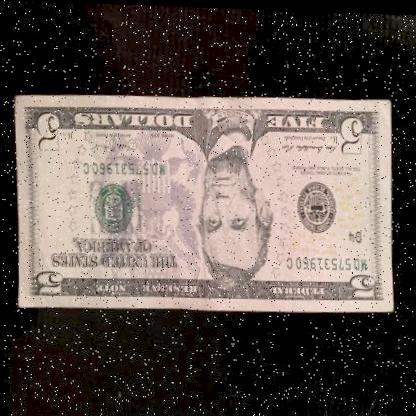five-front: (13, 87, 396, 320)
